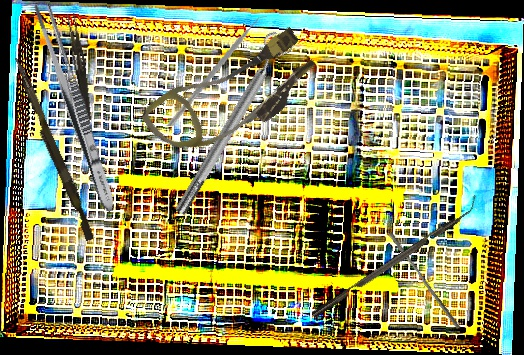Cannula: (138, 9, 327, 181)
Chopper: (306, 195, 484, 318), (166, 4, 274, 139)
Dressing Forceps: (29, 0, 122, 215), (62, 12, 98, 122)
Fixation Ring: (164, 28, 298, 221)
Pusher: (6, 56, 100, 242), (384, 231, 465, 330)
